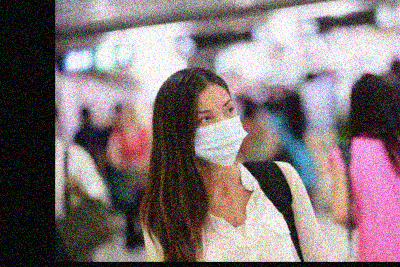with_mask: (192, 95, 250, 166)
